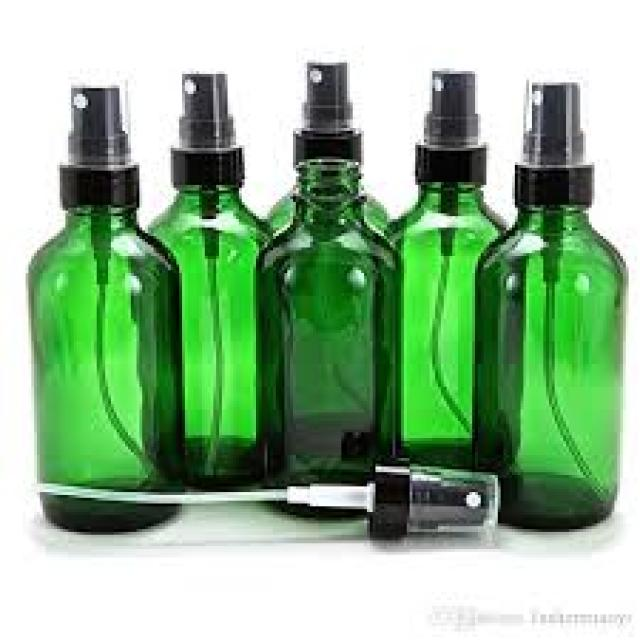glass: (254, 154, 396, 521), (26, 202, 179, 535), (134, 182, 287, 489), (475, 202, 614, 529), (390, 182, 518, 475), (264, 165, 387, 239)
plastic: (28, 464, 495, 538), (512, 77, 589, 208), (54, 77, 134, 202), (168, 60, 242, 188), (412, 63, 481, 179), (290, 52, 359, 157)
